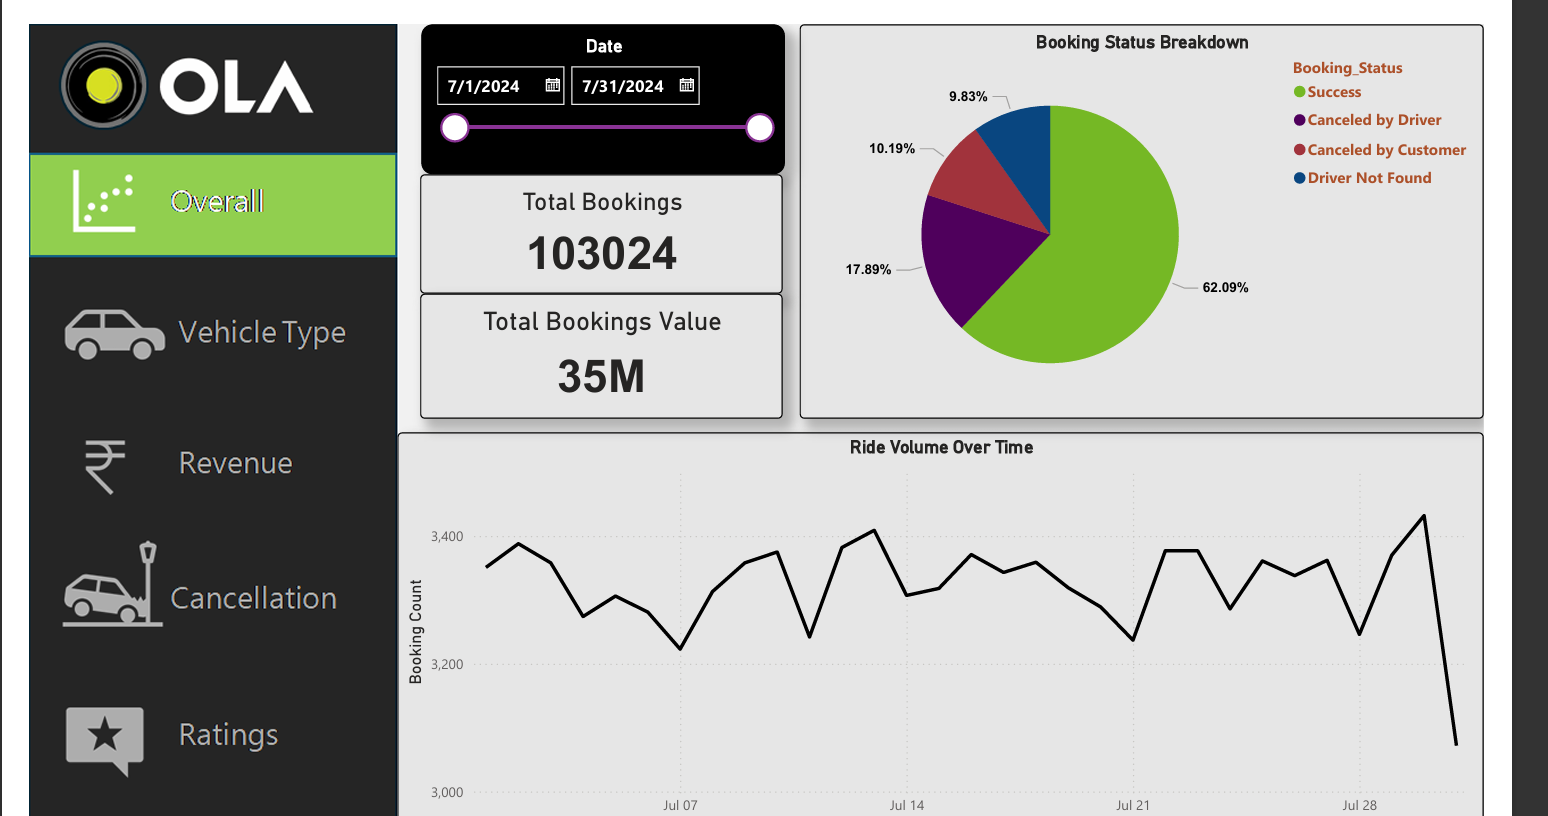

This screenshot's page, from the dashboard's own definition file:
{"tool":"powerbi","page":{"name":"Overall","canvas":[1280,720],"ordinal":0},"visuals":[{"type":"actionButton","box":[0,211.6,324.5,92.3],"z":0},{"type":"actionButton","box":[0,326.1,324.5,98.6],"z":1},{"type":"actionButton","box":[0,437.4,324.5,111.3],"z":2},{"type":"actionButton","box":[4.8,564.7,314.9,141.6],"z":3},{"type":"lineChart","title":"Ride Volume Over Time","fields":{"Y":["CountNonNull(July.Booking_ID)"],"Category":["July.Date"]},"box":[324.5,359.5,956,361.1],"z":4},{"type":"pieChart","title":"Booking Status Breakdown","fields":{"Category":["July.Booking_Status"],"Y":["CountNonNull(July.Booking_Status)"]},"box":[677.6,0,602.8,346.8],"z":6},{"type":"slicer","title":"Date","fields":{"Values":["July.Date"]},"box":[345.2,0,319.7,132],"z":7},{"type":"card","title":"Total Bookings","fields":{"Values":["CountNonNull(July.Booking_ID)"]},"box":[343.6,132,319.7,105],"z":8},{"type":"card","title":"Total Bookings Value","fields":{"Values":["Sum(July.Booking_Value)"]},"box":[343.6,237,319.7,109.8],"z":9}]}

Visuals, with their boxes on the page's 1280x720 design canvas (x1, y1, x2, y2). These are canvas units, not pixel positions in the 1548x816 screenshot, which may show the page scaled, cropped or inside an application window:
actionButton: (left=0, top=212, right=324, bottom=304)
actionButton: (left=0, top=326, right=324, bottom=425)
actionButton: (left=0, top=437, right=324, bottom=549)
actionButton: (left=5, top=565, right=320, bottom=706)
"Ride Volume Over Time" lineChart: (left=324, top=360, right=1280, bottom=721)
"Booking Status Breakdown" pieChart: (left=678, top=0, right=1280, bottom=347)
"Date" slicer: (left=345, top=0, right=665, bottom=132)
"Total Bookings" card: (left=344, top=132, right=663, bottom=237)
"Total Bookings Value" card: (left=344, top=237, right=663, bottom=347)
